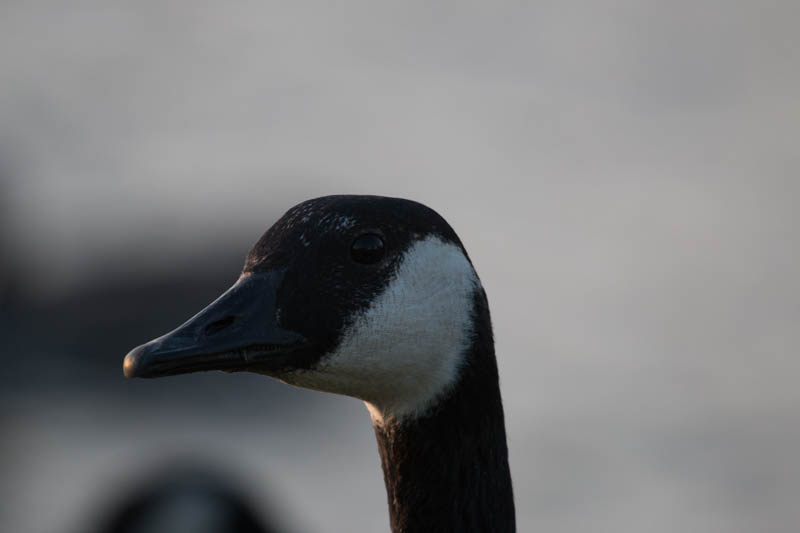goose-head: (121, 193, 496, 425)
